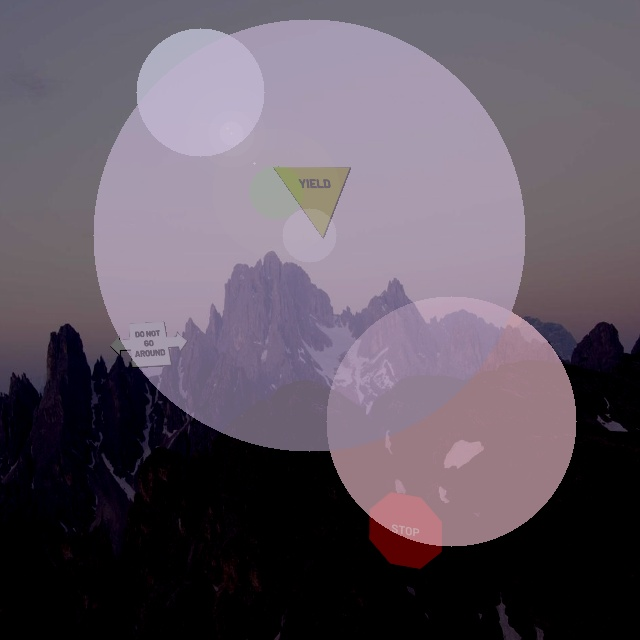DO_NOT_GO_AROUND: (109, 321, 188, 368)
STOP: (368, 491, 443, 570)
YIELD: (272, 166, 351, 239)
